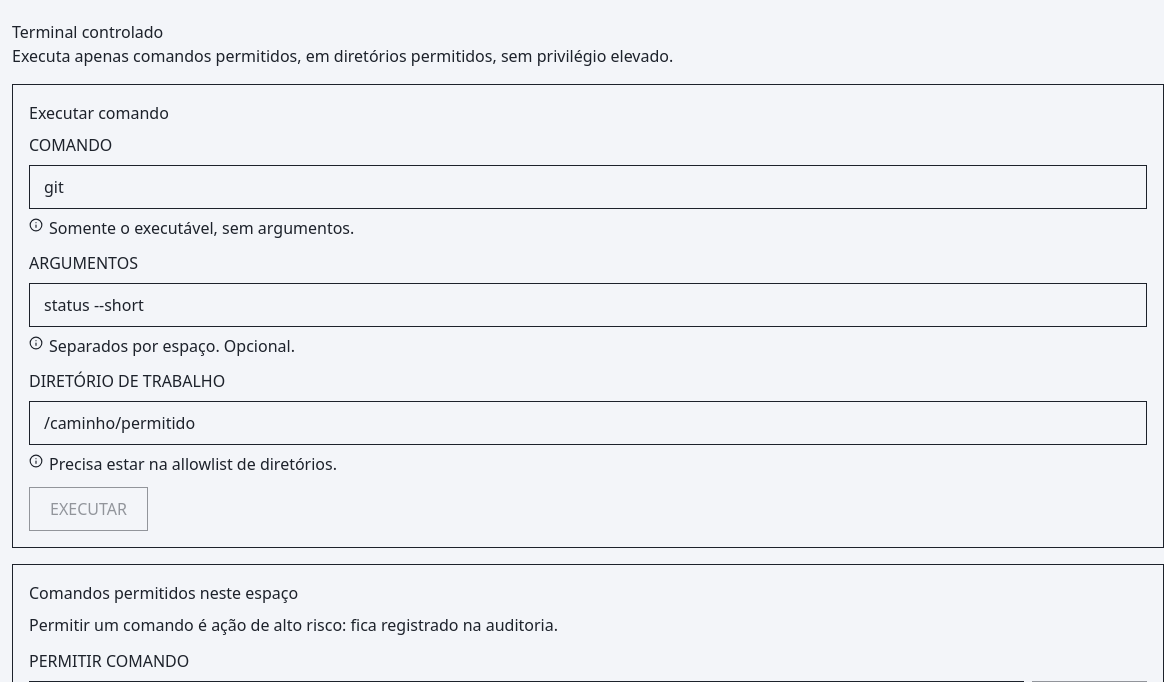
painel do terminal controlado › explica em português por que um comando foi bloqueado — nunca o enum cru
Type "curl" into the field labelled "Comando" at (588, 187), box [29,165,1147,209]
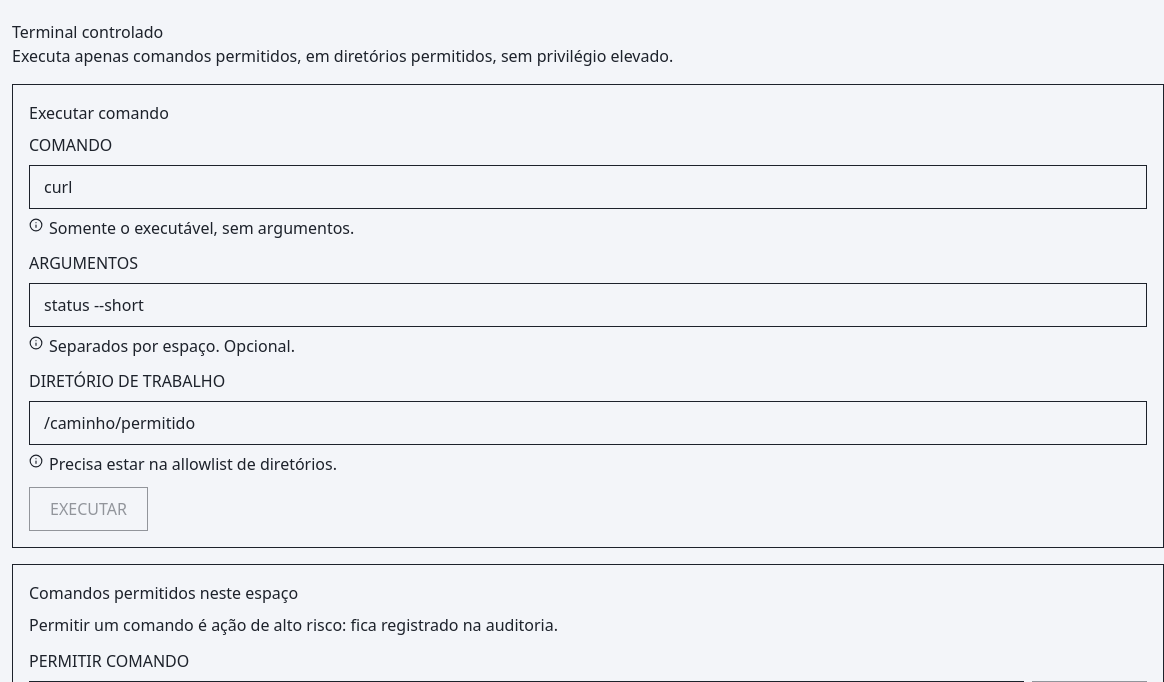
Type "/permitido" into the field labelled "Diretório de trabalho" at (588, 423), box [29,401,1147,445]
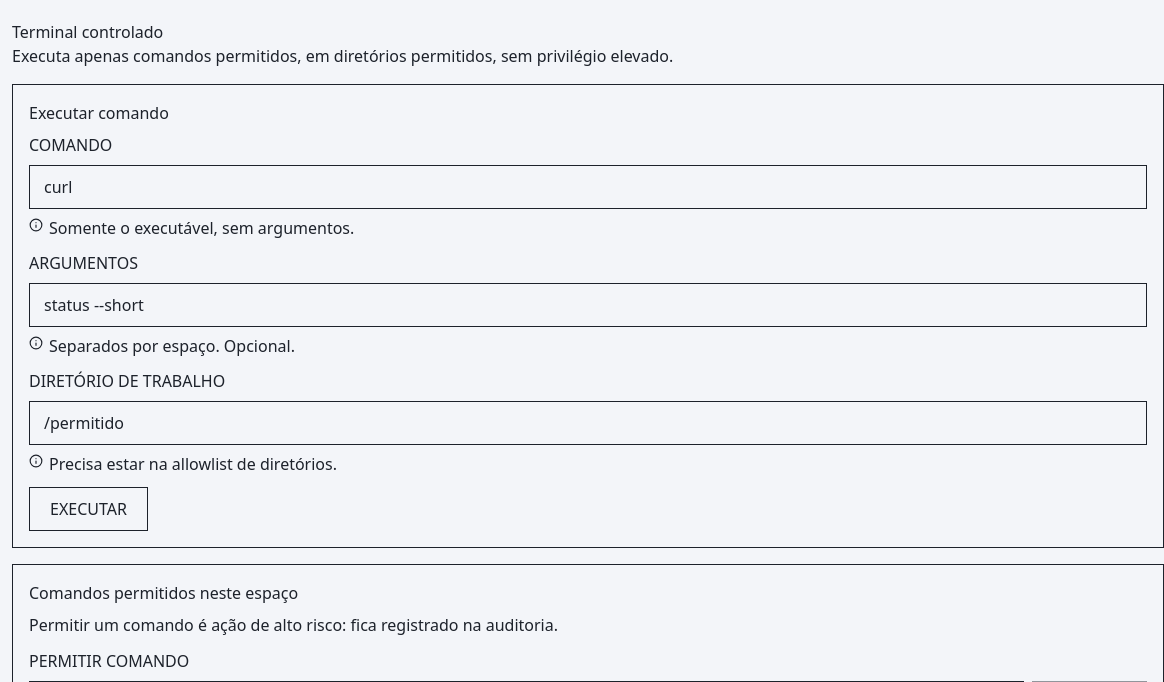
Click the button "Executar" at (88, 509), box [29,487,148,531]
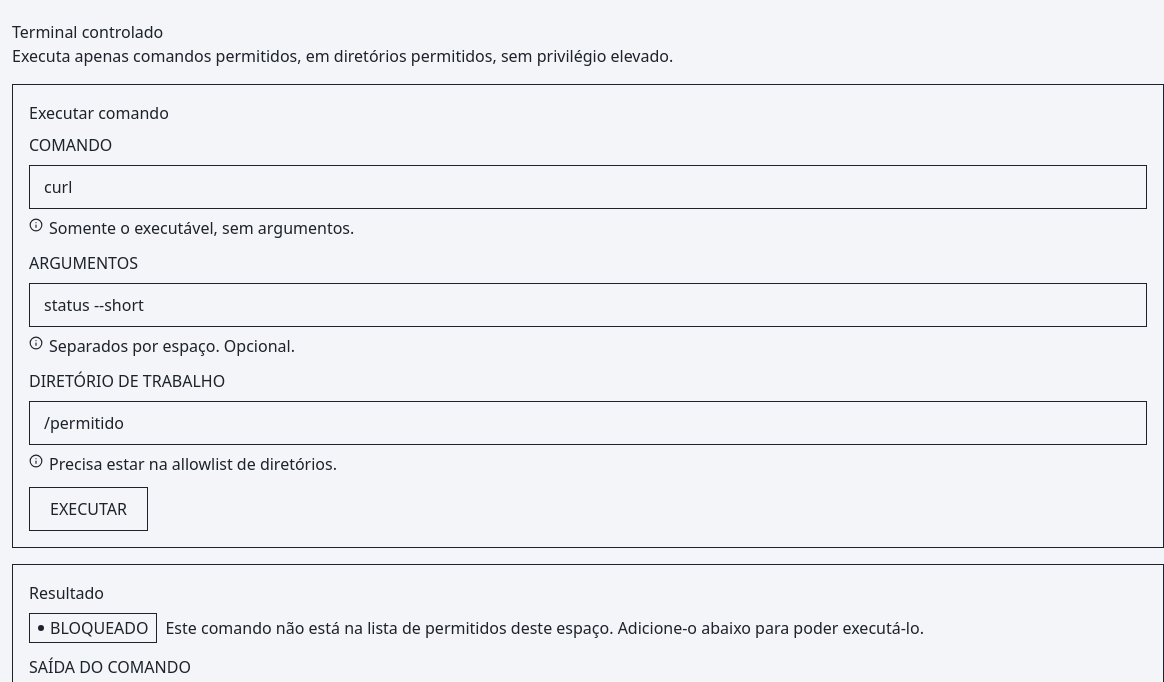
Now the text "não está na lista de permitidos" is shown, box [166,617,924,639]
